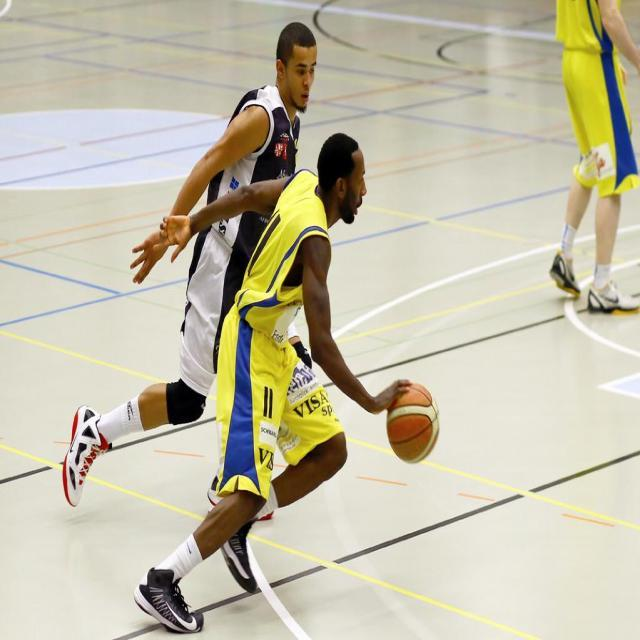rim: (387, 380, 440, 462)
